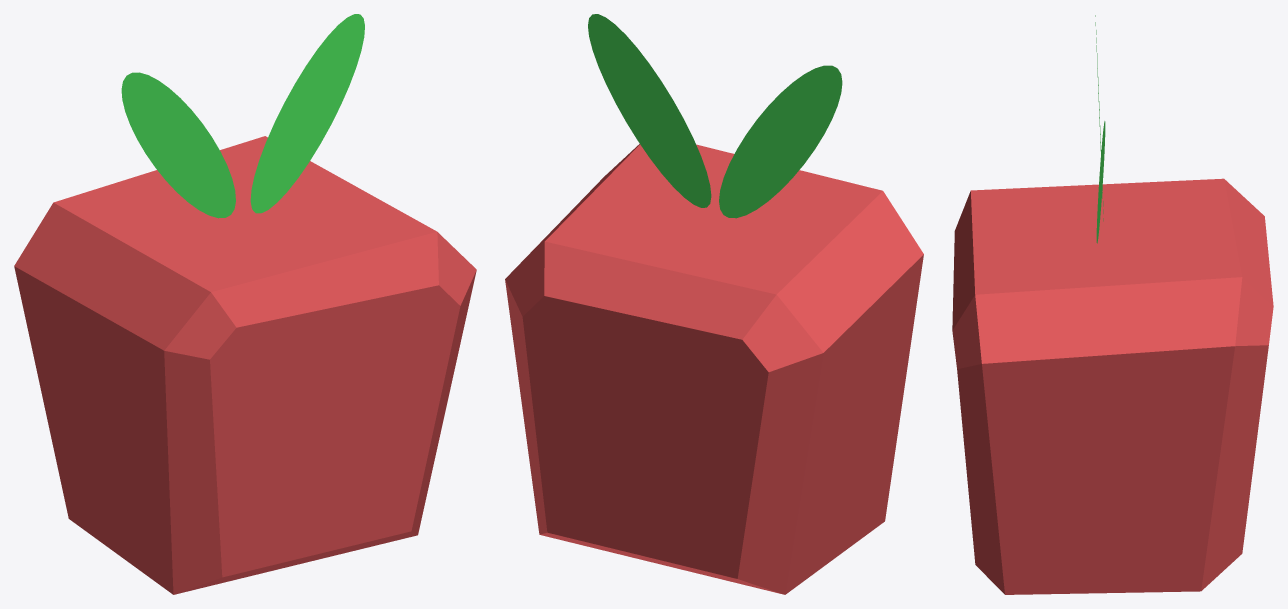
File: apple2.glb
The picture shows the model from 3 angles, left to right: view 1: azimuth 30°, elevation 25°; view 2: azimuth 150°, elevation 25°; view 3: azimuth 270°, elevation 25°; orthographic projection. The views are drawn at different scales.
Parts seen in each view (by area): view 1: apple, leaf, leaf.001; view 2: apple, leaf.001, leaf; view 3: apple, leaf.
Part boxes in pixels (left/top/right/bottom): apple: left=14, top=136, right=476, bottom=594; leaf: left=250, top=14, right=364, bottom=213; leaf.001: left=121, top=72, right=235, bottom=218; apple: left=505, top=144, right=923, bottom=594; leaf.001: left=719, top=65, right=842, bottom=218; leaf: left=588, top=14, right=711, bottom=207; apple: left=952, top=178, right=1273, bottom=594; leaf: left=1096, top=121, right=1105, bottom=243.
Size of the model in its own units: 2.06 by 2.81 by 1.75.
